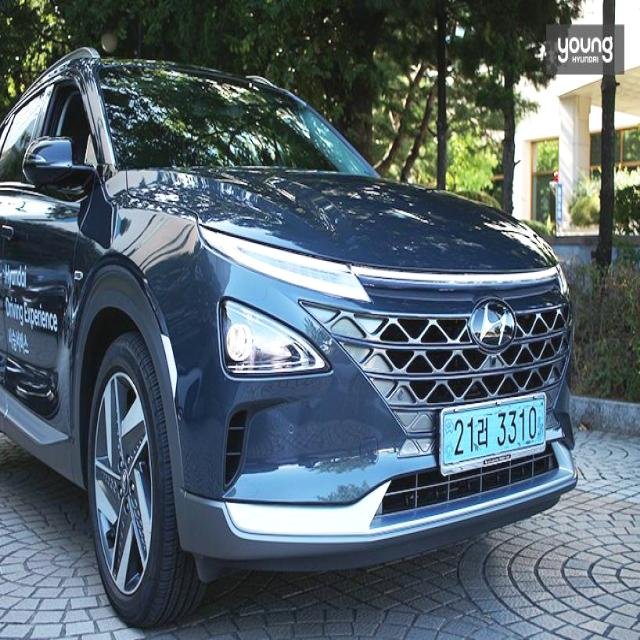EV_plate: (442, 392, 551, 486)
car: (2, 43, 579, 618)
